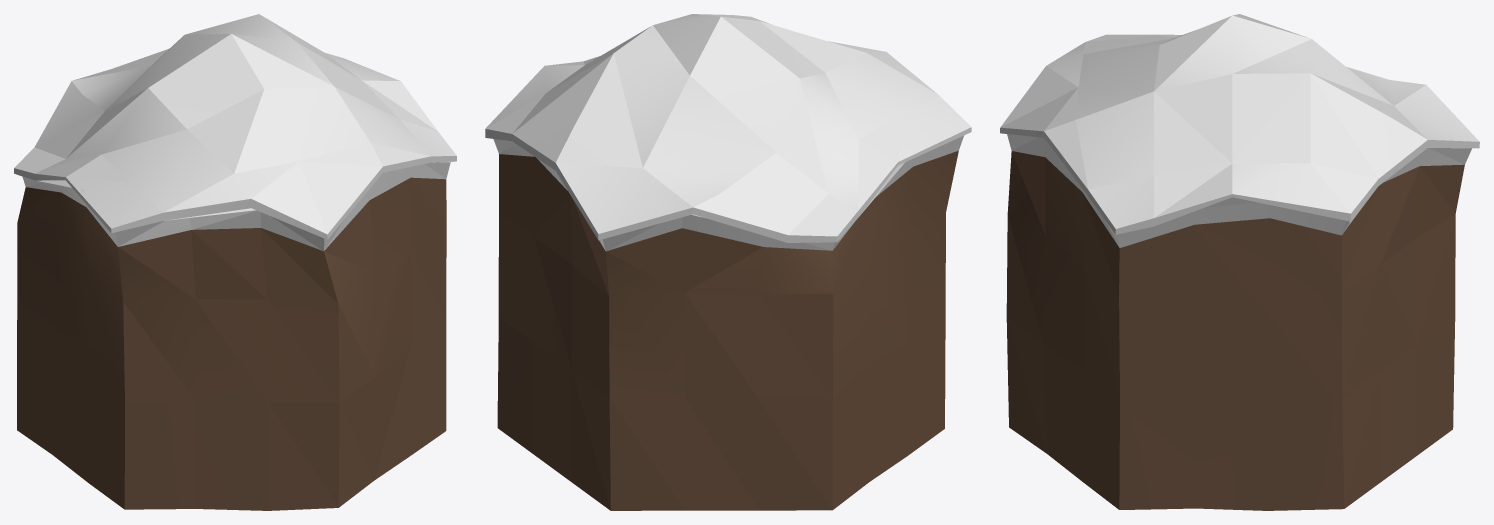
The model's file is iceeBerg.fbx.
The picture shows the model from 3 angles, left to right: view 1: azimuth 30°, elevation 25°; view 2: azimuth 150°, elevation 25°; view 3: azimuth 270°, elevation 25°; orthographic projection. The views are drawn at different scales.
Visible parts, largest first — view 1: hexagonTile-land02.001; view 2: hexagonTile-land02.001; view 3: hexagonTile-land02.001.
Boxes of the visible parts, x1,y1,x2,y2 form: hexagonTile-land02.001: (14,14,456,510); hexagonTile-land02.001: (485,14,971,510); hexagonTile-land02.001: (1000,14,1479,510).
Size of the model in its own units: 1547 by 1679 by 1763.
